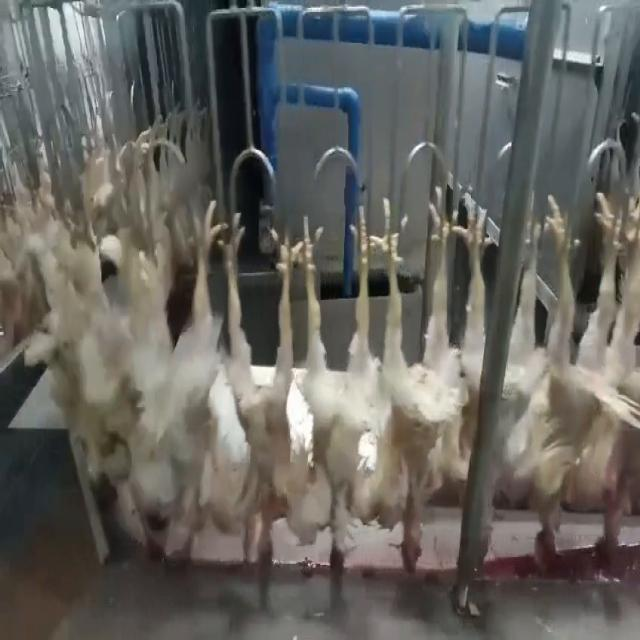chicken: (379, 182, 460, 579), (148, 194, 224, 570), (500, 192, 572, 575), (301, 207, 372, 587), (229, 219, 300, 580), (574, 192, 639, 573), (457, 203, 491, 423)
